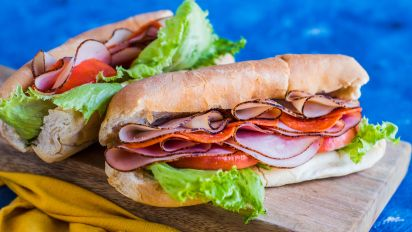sandwich: (98, 49, 393, 208)
